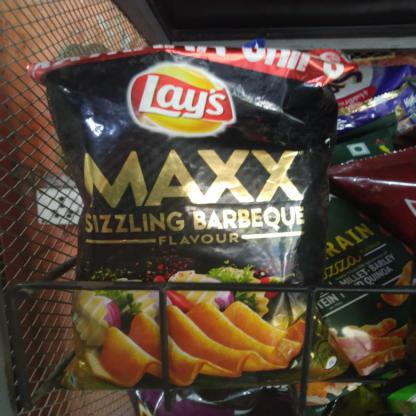maxx_sizzling_barbeque: (54, 61, 335, 381)
